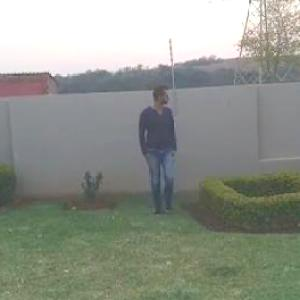follow: (136, 79, 178, 222)
